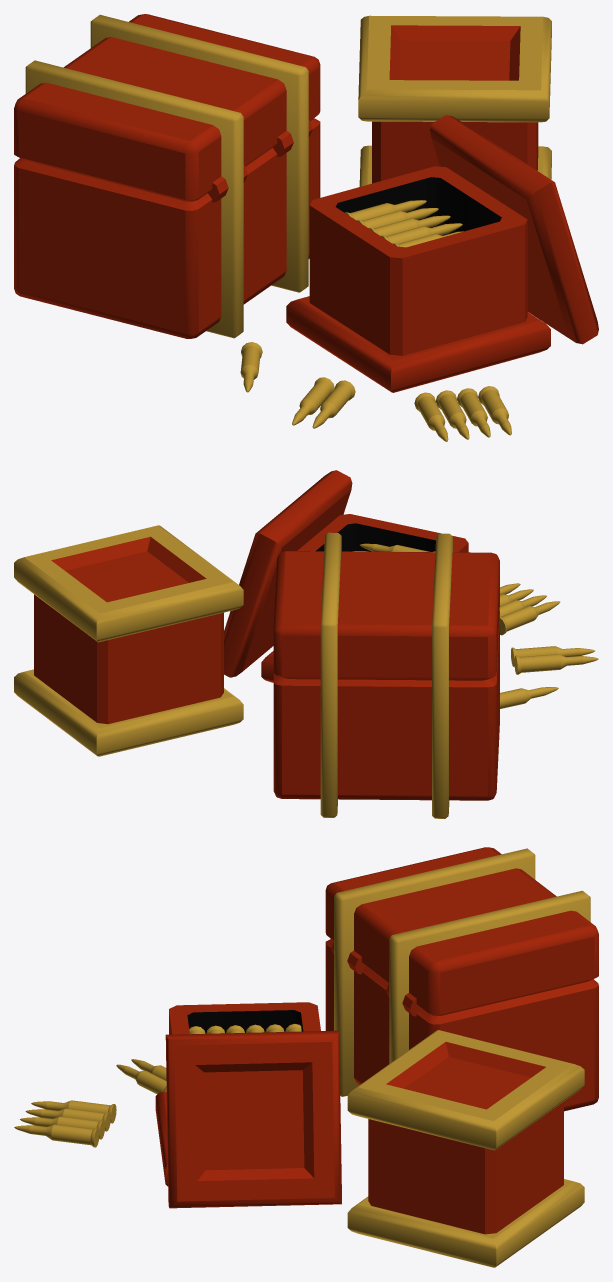
The model's file is Bullet Factory Top Solid.fbx.
3 renders of one model, top to bottom at view 1: azimuth 30°, elevation 25°; view 2: azimuth 150°, elevation 25°; view 3: azimuth 270°, elevation 25°, orthographic. The views are drawn at different scales.
Parts seen in each view (by area): view 1: Bullet Factory Top; view 2: Bullet Factory Top; view 3: Bullet Factory Top.
Part boxes in pixels (bbox=[...]): Bullet Factory Top: bbox=[14, 14, 598, 441]; Bullet Factory Top: bbox=[14, 470, 598, 818]; Bullet Factory Top: bbox=[14, 847, 598, 1267].
Size of the model in its own units: 409 by 160 by 423.
